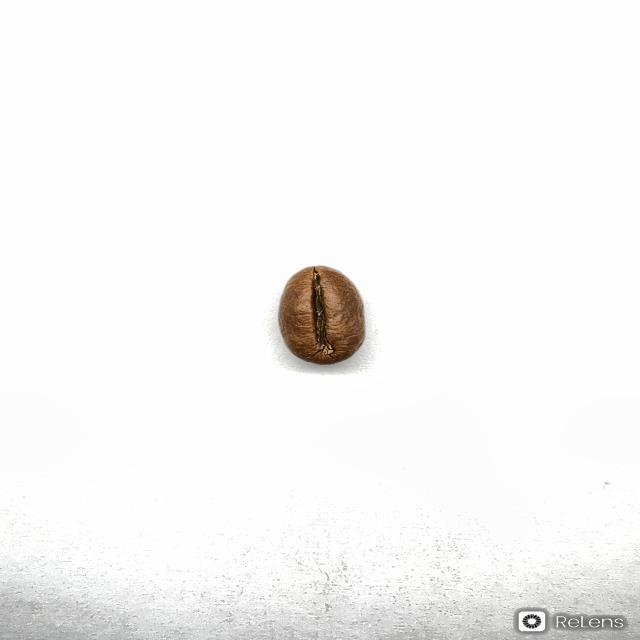Good bean: (277, 264, 366, 365)
